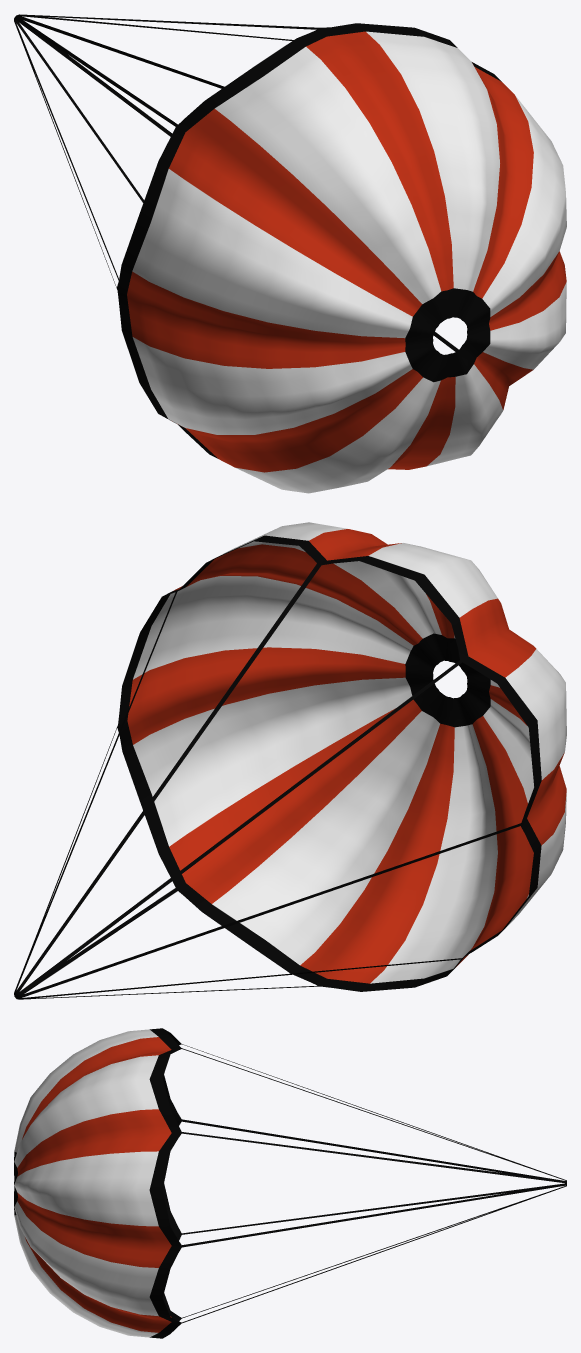
The model's file is parachute.fbx.
3 renders of one model, top to bottom at view 1: azimuth 30°, elevation 25°; view 2: azimuth 150°, elevation 25°; view 3: azimuth 270°, elevation 25°, orthographic. The views are drawn at different scales.
Visible parts, largest first — view 1: parachute; view 2: parachute; view 3: parachute.
Boxes of the visible parts, left/top/right/bottom form: parachute: left=14, top=14, right=566, bottom=493; parachute: left=14, top=522, right=566, bottom=999; parachute: left=14, top=1028, right=566, bottom=1338.
Bounding box in the file's own units: 497 × 497 × 904.
